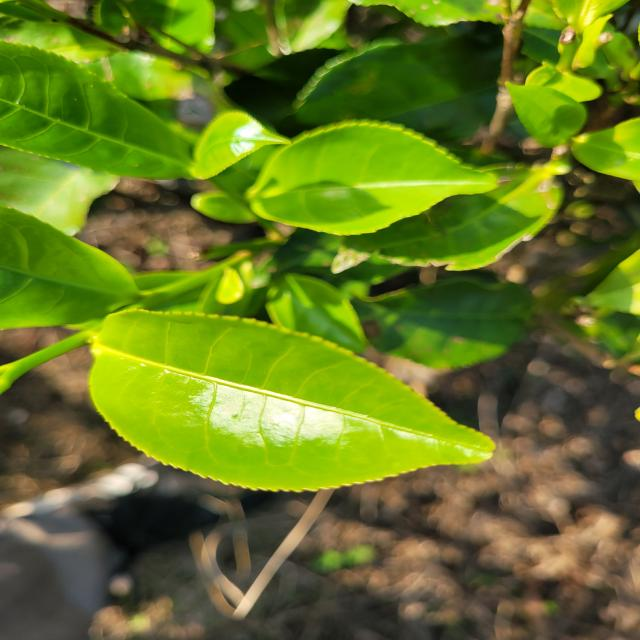Category B(2-4 days): (45, 275, 519, 535)
